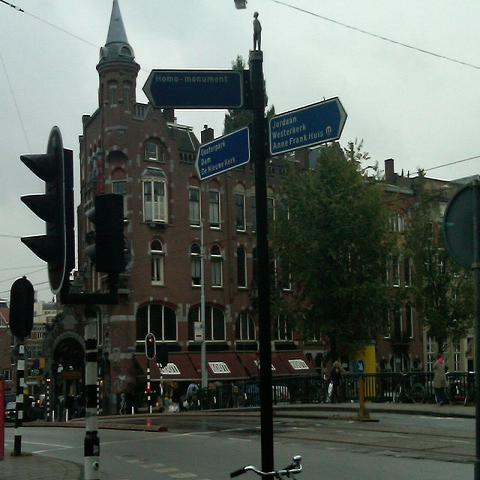car: (5, 402, 16, 421), (38, 394, 45, 406)
